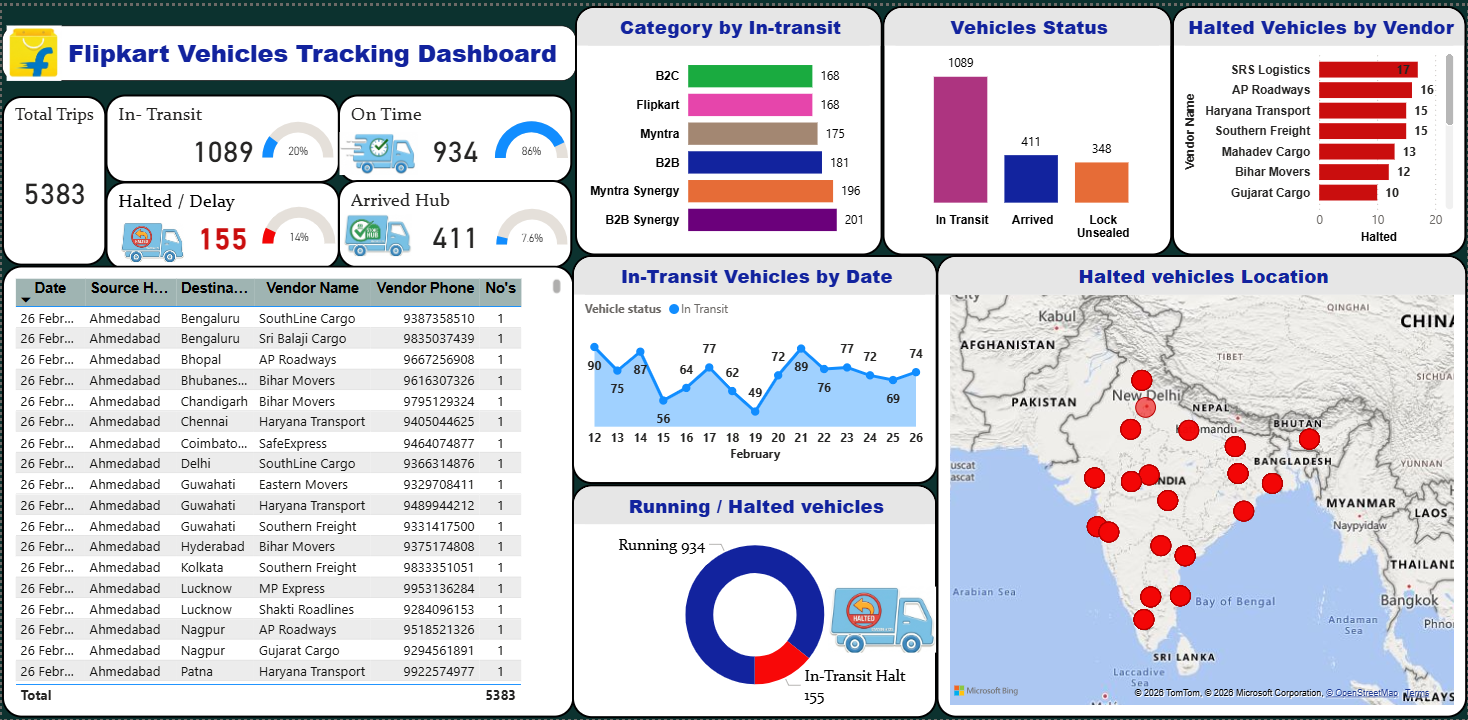

The dashboard page shown, as its layout file describes it:
{"tool":"powerbi","page":{"name":"Flipkart vehicles dashboard","canvas":[1480,720],"ordinal":0},"visuals":[{"type":"clusteredColumnChart","title":"Vehicles Status","fields":{"Category":["Non-Large Vehicles.Vehicle status"],"Y":["Count(Non-Large Vehicles.Trip ID)"]},"box":[889.8,0,292.6,252.3],"z":0},{"type":"card","title":"Total Trips","fields":{"Values":["Non-Large Vehicles.Total Trips"]},"box":[0,91,105,171.6],"z":1000},{"type":"card","title":"In- Transit","fields":{"Values":["Non-Large Vehicles.In-Transit Count"]},"box":[105,89.3,236.4,89.3],"z":2000},{"type":"card","title":"On Time","fields":{"Values":["Non-Large Vehicles.On Time"]},"box":[339.7,89.3,236.4,89.3],"z":3000},{"type":"card","title":"Arrived Hub","fields":{"Values":["Non-Large Vehicles.Arrived"]},"box":[339.7,175.1,236.4,89.3],"z":4000},{"type":"gauge","fields":{"Y":["Non-Large Vehicles.% Intransit"]},"box":[257.4,91,82.3,87.5],"z":5000},{"type":"gauge","fields":{"Y":["Non-Large Vehicles.% On Time"]},"box":[492,91,84,87.5],"z":6000},{"type":"gauge","fields":{"Y":["Non-Large Vehicles.% Arrived"]},"box":[493.7,178.6,82.3,87.5],"z":7000},{"type":"card","title":"Halted / Delay","fields":{"Values":["Non-Large Vehicles.Halted"]},"box":[105,176.8,236.4,89.3],"z":8000},{"type":"gauge","fields":{"Y":["Non-Large Vehicles.% Halted"]},"box":[257.4,176.8,84,87.5],"z":9000},{"type":"tableEx","fields":{"Values":["Non-Large Vehicles.ATD - Copy","Non-Large Vehicles.Source Hub","Non-Large Vehicles.Destination Hub","Non-Large Vehicles.Vendor Name","Non-Large Vehicles.Vendor Phone","Non-Large Vehicles.Trip ID"]},"box":[0,262.6,577.8,457],"z":10000},{"type":"donutChart","title":"Running / Halted vehicles","fields":{"Category":["Non-Large Vehicles.Halt Tag"],"Y":["Count(Non-Large Vehicles.Trip ID)"]},"box":[576.3,483.7,368.8,235.9],"z":11000},{"type":"clusteredBarChart","title":"Halted Vehicles by Vendor","fields":{"Category":["Non-Large Vehicles.Vendor Name"],"Y":["Non-Large Vehicles.Halted"]},"box":[1182.4,0,297.1,252.3],"z":12000},{"type":"map","title":"Halted vehicles Location","fields":{"Category":["Non-Large Vehicles.Halt Location (Pin)"]},"box":[943.7,252.1,535.7,467.5],"z":13000},{"type":"areaChart","title":"In-Transit Vehicles by Date","fields":{"Y":["CountNonNull(Non-Large Vehicles.Trip ID)"],"Category":["Non-Large Vehicles.ATD 1.Variation.Date Hierarchy.Month","Non-Large Vehicles.ATD 1.Variation.Date Hierarchy.Day"],"Series":["Non-Large Vehicles.Vehicle status"]},"box":[576,252.1,369.4,231.1],"z":14000},{"type":"textbox","box":[0,19.9,579.8,56.3],"z":15000},{"type":"image","box":[341.4,122.6,78.8,52.5],"z":16000},{"type":"image","box":[119.1,210.1,64.8,56],"z":17000},{"type":"image","box":[339.7,210.1,80.5,42],"z":18000},{"type":"image","box":[834.6,582.2,109,76.1],"z":19000},{"type":"image","box":[0,19.3,64.8,56],"z":20000},{"type":"clusteredBarChart","title":"Category by In-transit","fields":{"Category":["Non-Large Vehicles.Vehicle Category"],"Y":["Count(Non-Large Vehicles.Trip ID)"]},"box":[579.3,0,310.5,252.3],"z":21000}]}

Visuals, with their boxes in screenshot pixels (x1, y1, x2, y2), scaled from the page's 1480x720 canvas onto the 1468x720 screenshot:
"Vehicles Status" clusteredColumnChart: <region>883, 0, 1173, 252</region>
"Total Trips" card: <region>0, 91, 104, 263</region>
"In- Transit" card: <region>104, 89, 339, 179</region>
"On Time" card: <region>337, 89, 571, 179</region>
"Arrived Hub" card: <region>337, 175, 571, 264</region>
gauge - Non-Large Vehicles.% Intransit: <region>255, 91, 337, 178</region>
gauge - Non-Large Vehicles.% On Time: <region>488, 91, 571, 178</region>
gauge - Non-Large Vehicles.% Arrived: <region>490, 179, 571, 266</region>
"Halted / Delay" card: <region>104, 177, 339, 266</region>
gauge - Non-Large Vehicles.% Halted: <region>255, 177, 339, 264</region>
tableEx - Non-Large Vehicles.ATD - Copy x Non-Large Vehicles.Source Hub: <region>0, 263, 573, 719</region>
"Running / Halted vehicles" donutChart: <region>572, 484, 937, 719</region>
"Halted Vehicles by Vendor" clusteredBarChart: <region>1173, 0, 1467, 252</region>
"Halted vehicles Location" map: <region>936, 252, 1467, 719</region>
"In-Transit Vehicles by Date" areaChart: <region>571, 252, 938, 483</region>
textbox: <region>0, 20, 575, 76</region>
image: <region>339, 123, 417, 175</region>
image: <region>118, 210, 182, 266</region>
image: <region>337, 210, 417, 252</region>
image: <region>828, 582, 936, 658</region>
image: <region>0, 19, 64, 75</region>
"Category by In-transit" clusteredBarChart: <region>575, 0, 883, 252</region>
